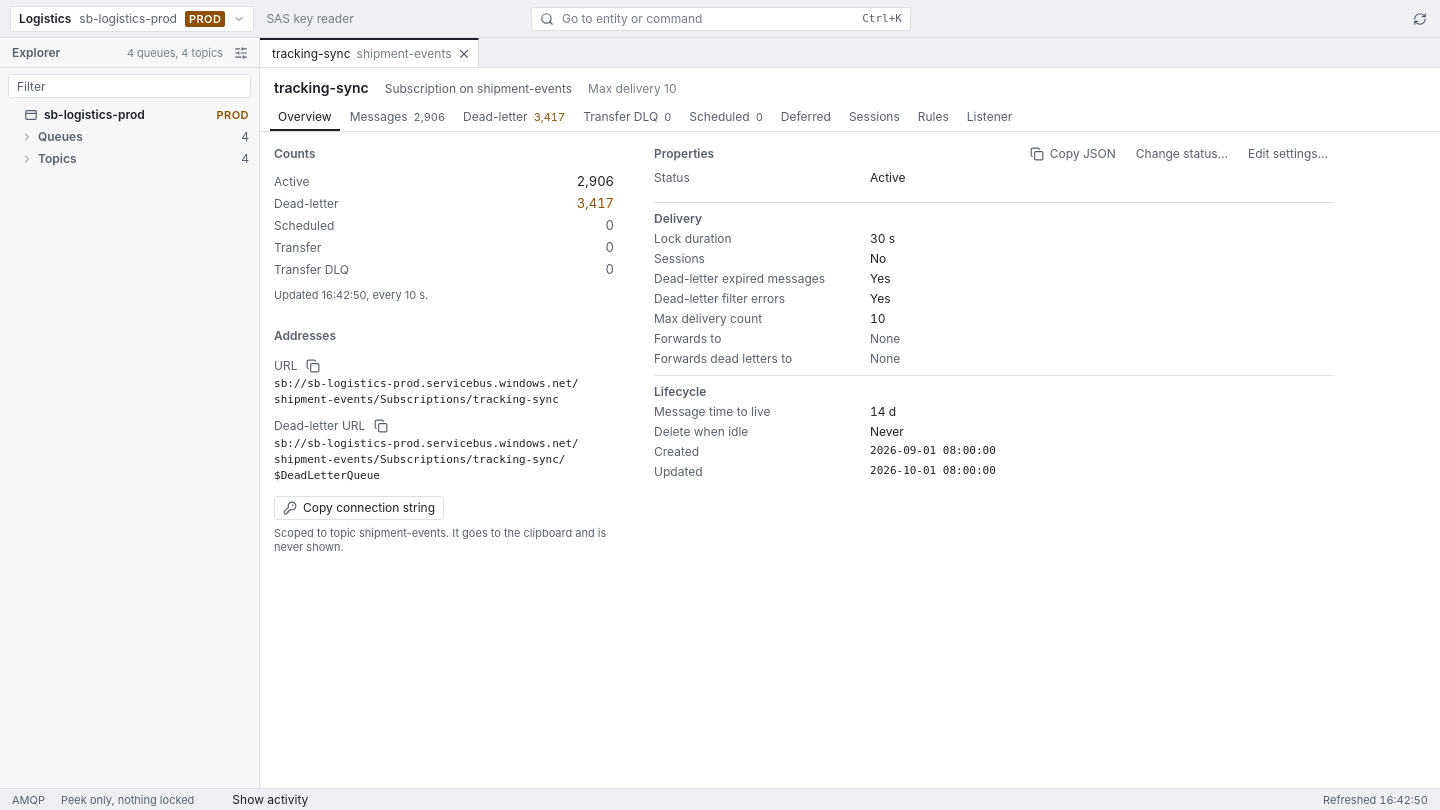
Test: overview › a subscription's connection string is scoped to its topic, and says so
This screenshot has width=1440, height=810.
Expected: the text "Scoped to topic shipment-events. It goes to the clipboard and is never shown." is shown, x1=274 y1=526 x2=614 y2=554
Click the button "Copy connection string" at coordinates (359, 508), box x1=274 y1=496 x2=444 y2=520
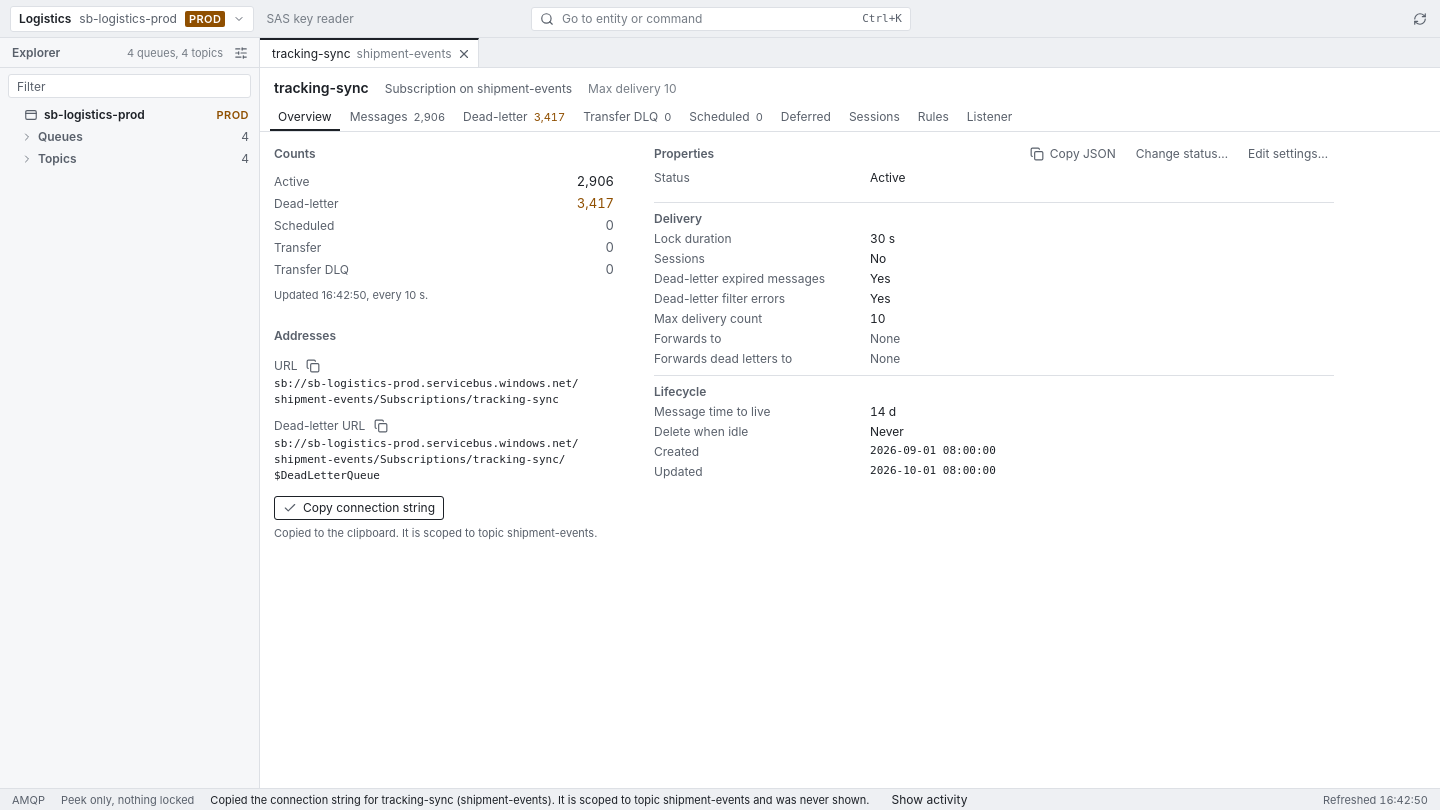
Now the text "Copied to the clipboard. It is scoped to topic shipment-events." is shown, box x1=274 y1=526 x2=614 y2=540
Now the text "Copied the connection string for tracking-sync (shipment-events). It is scoped to topic shipment-events and was never sh" is shown, box x1=210 y1=792 x2=870 y2=806
